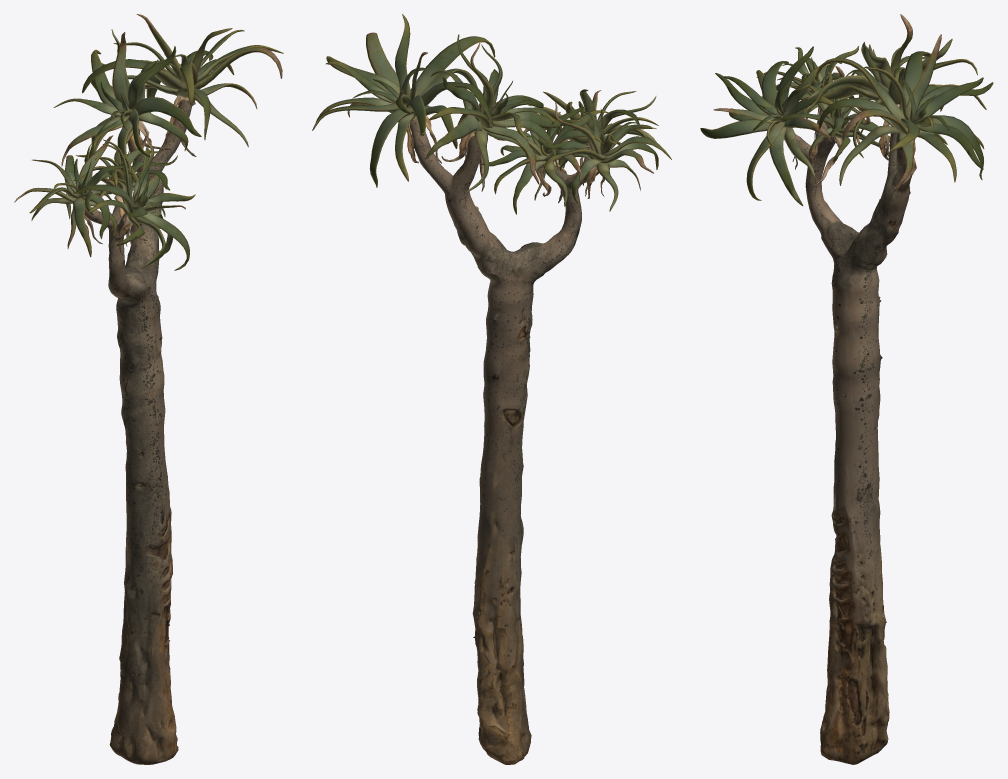
Rendered from quiver_tree_01.glb.
3 views of the same model, side by side, from view 1: azimuth 30°, elevation 25°; view 2: azimuth 150°, elevation 25°; view 3: azimuth 270°, elevation 25° (orthographic). The views are drawn at different scales.
Parts seen in each view (by area): view 1: quiver_tree_01; view 2: quiver_tree_01; view 3: quiver_tree_01.
Boxes of the visible parts, x1,y1,x2,y2 form: quiver_tree_01: (14,14,283,764); quiver_tree_01: (312,14,671,764); quiver_tree_01: (700,14,993,764).
Bounding box in the file's own units: 1.18 × 2.72 × 0.9683.
2 materials, 2 textured.
